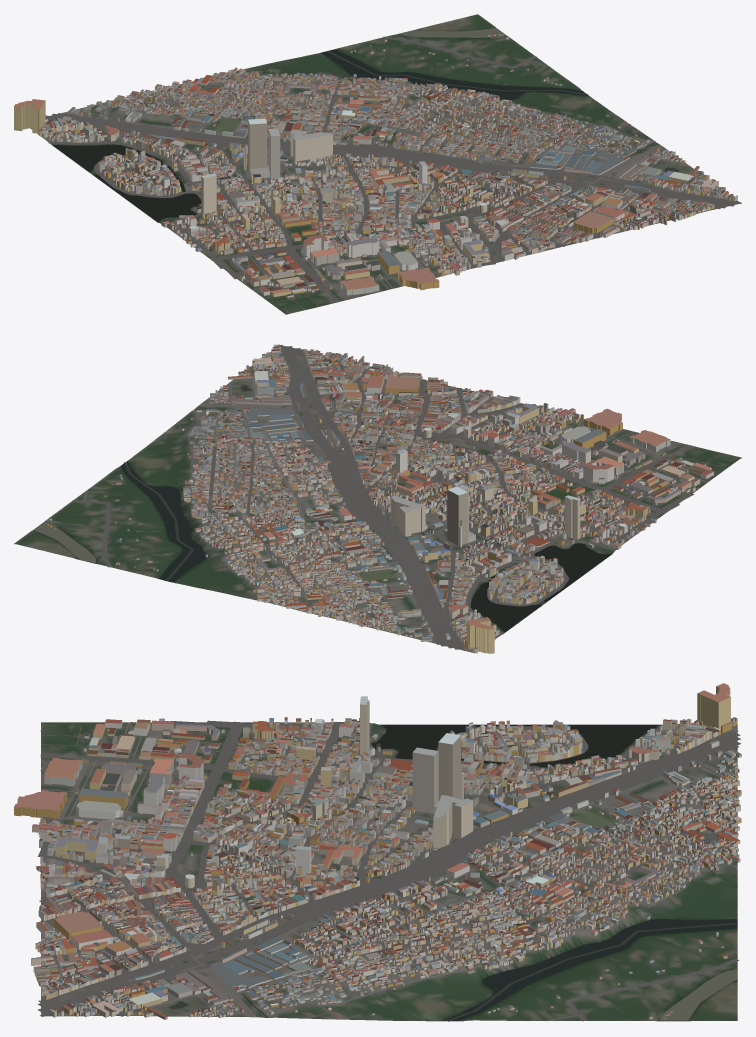
The picture shows the model from 3 angles, top to bottom: view 1: azimuth 30°, elevation 25°; view 2: azimuth 150°, elevation 25°; view 3: azimuth 270°, elevation 25°; orthographic projection. The views are drawn at different scales.
Visible parts, largest first — view 1: buildings, ground, roads, water; view 2: buildings, ground, roads, water; view 3: buildings, ground, roads, water.
Boxes of the visible parts, box(x1,y1,x2,y2) form: buildings: box(14, 33, 737, 297); ground: box(30, 14, 739, 314); roads: box(37, 36, 741, 313); water: box(53, 28, 678, 221); buildings: box(43, 344, 713, 653); ground: box(14, 345, 741, 653); roads: box(45, 345, 737, 652); water: box(33, 385, 611, 631); buildings: box(14, 683, 741, 1019); ground: box(41, 722, 737, 1021); roads: box(37, 720, 741, 1021); water: box(170, 724, 737, 1021).
Size of the model in its own units: 1458 by 159 by 1465.
